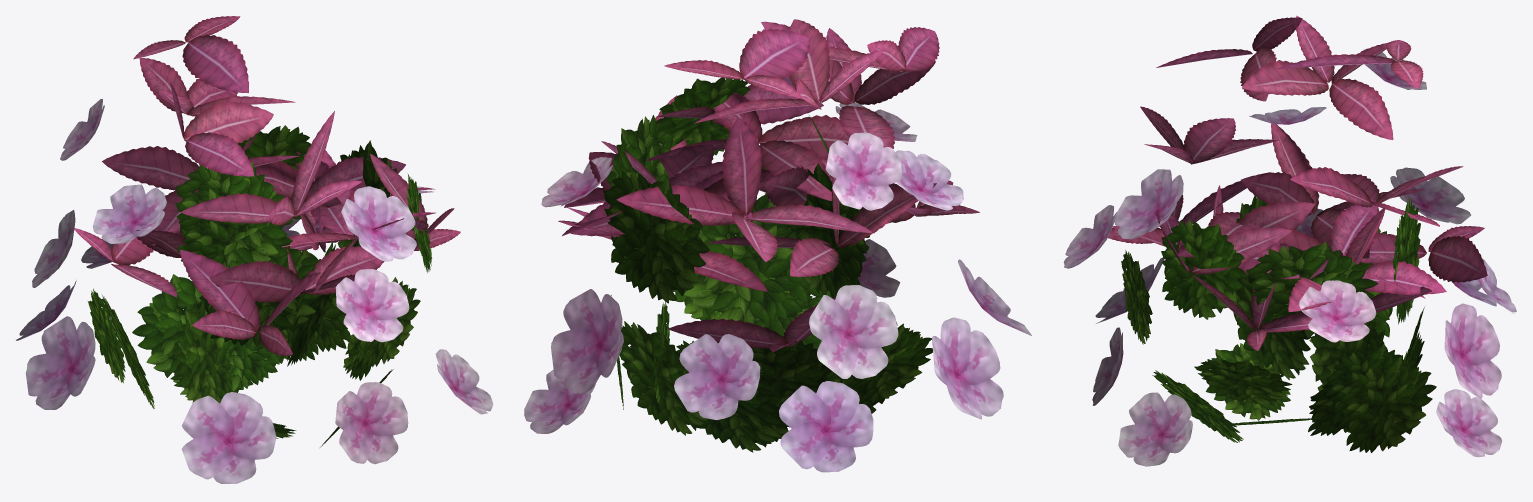
The model's file is mm8_deco_plant25.glb.
3 renders of one model, left to right at view 1: azimuth 30°, elevation 25°; view 2: azimuth 150°, elevation 25°; view 3: azimuth 270°, elevation 25°, orthographic. The views are drawn at different scales.
Visible parts, largest first — view 1: Plant; view 2: Plant; view 3: Plant.
Boxes of the visible parts, x1,y1,x2,y2 form: Plant: (16,16,493,483); Plant: (524,19,1031,472); Plant: (1063,15,1516,466).
Bounding box in the file's own units: 1.05 × 0.9387 × 1.03.
1 material, 1 textured.
